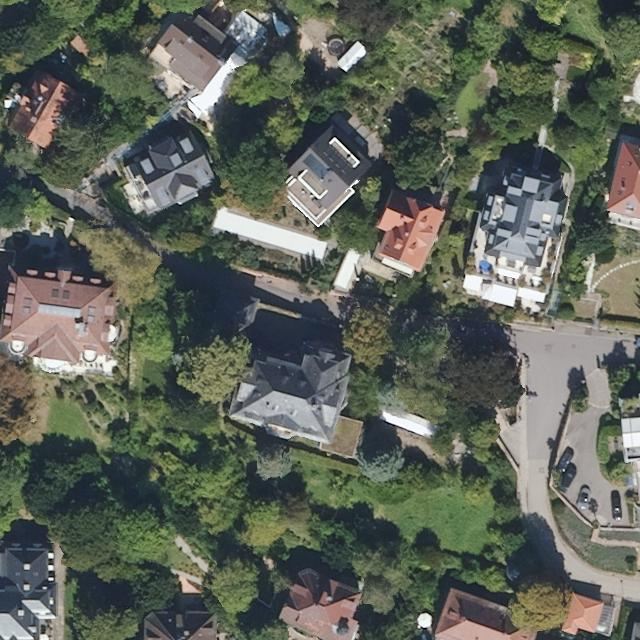PV: (301, 152, 331, 182)
